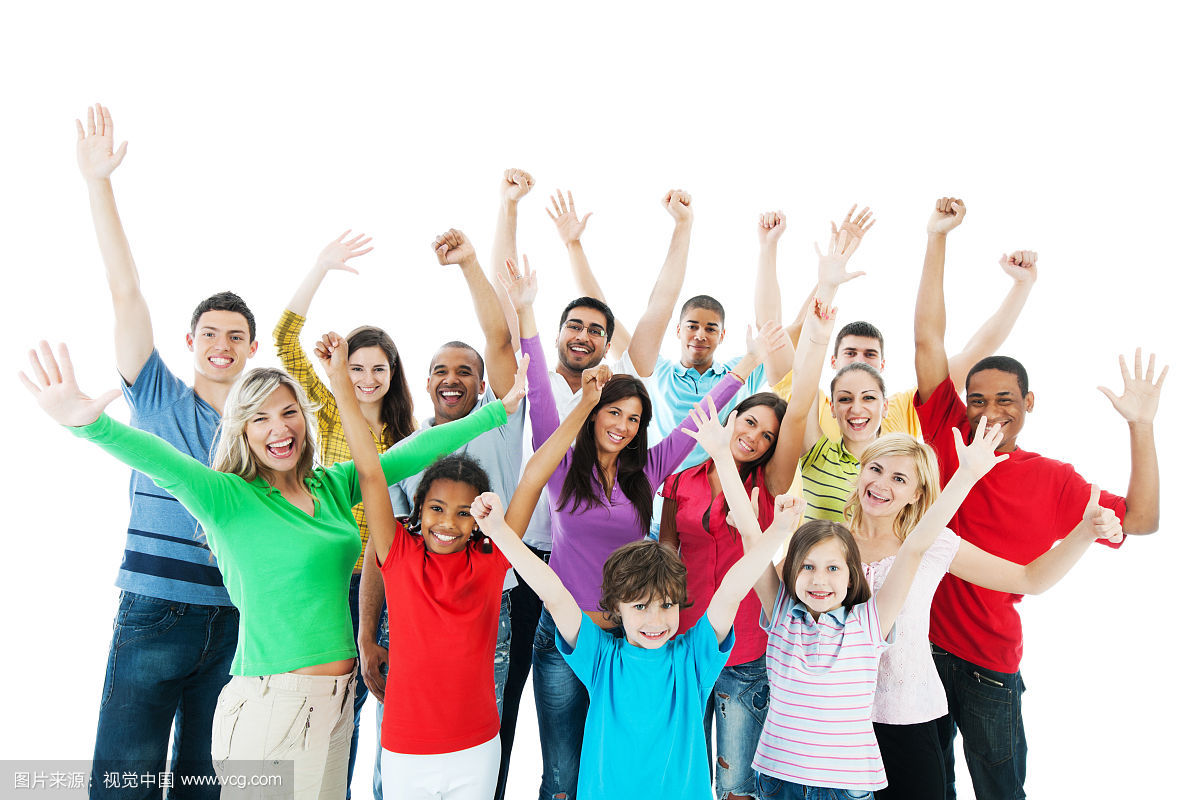handsup: (15, 327, 535, 794), (307, 331, 622, 800), (918, 192, 1162, 793), (683, 389, 1010, 796), (467, 483, 809, 788)
